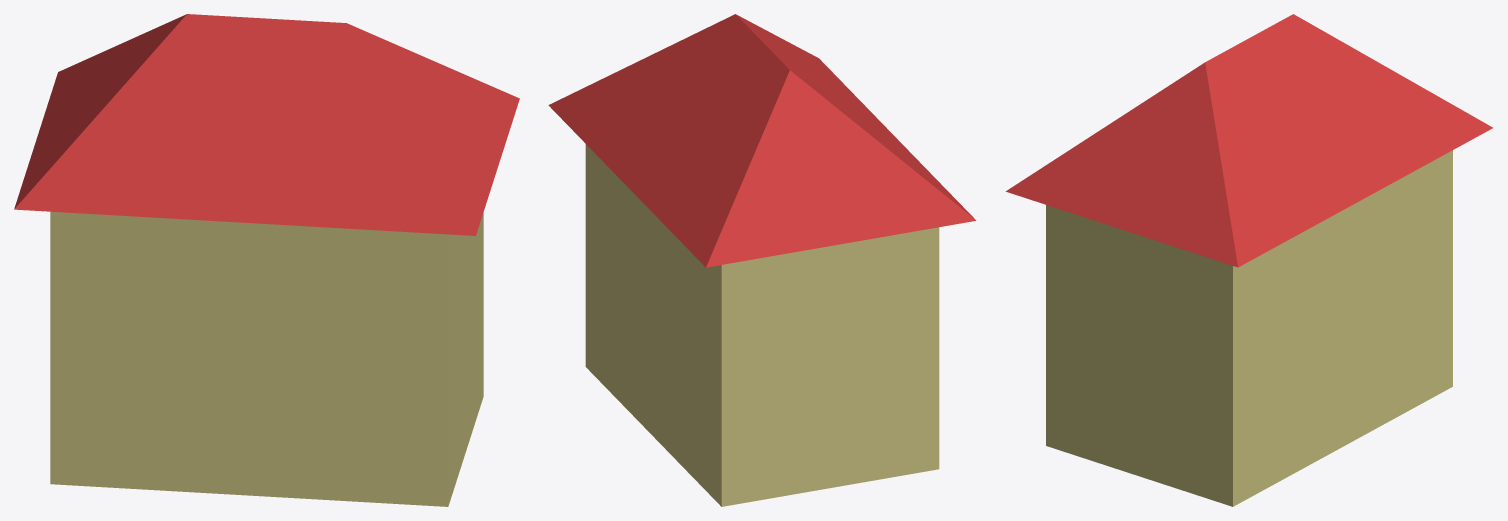
The picture shows the model from 3 angles, left to right: view 1: azimuth 30°, elevation 25°; view 2: azimuth 150°, elevation 25°; view 3: azimuth 270°, elevation 25°; orthographic projection. The views are drawn at different scales.
Visible parts, largest first — view 1: group_5, group_3, group_4; view 2: group_5, group_3, group_4; view 3: group_5, group_3.
Boxes of the visible parts, x1,y1,x2,y2 form: group_5: [50, 211, 483, 506]; group_3: [15, 14, 519, 235]; group_4: [14, 60, 437, 233]; group_5: [585, 144, 939, 506]; group_3: [548, 14, 973, 267]; group_4: [706, 118, 976, 267]; group_5: [1046, 150, 1452, 506]; group_3: [1005, 14, 1492, 267].
Bounding box in the file's own units: 17.67 × 16.9 × 14.45.
